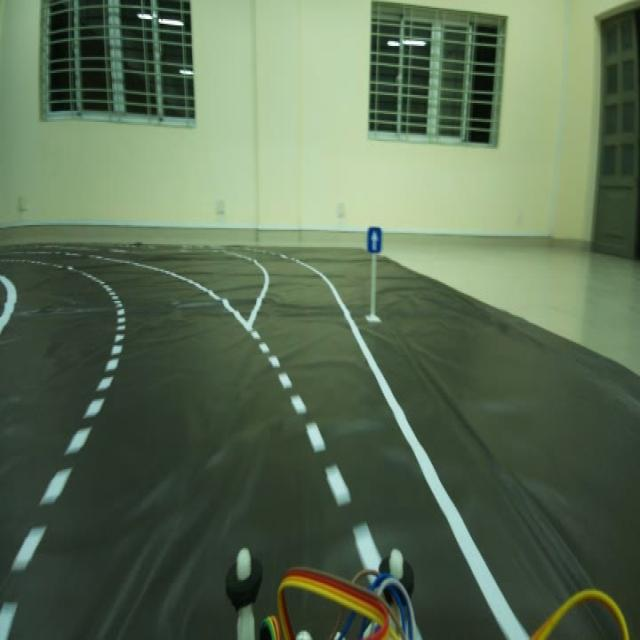onewayroad: (366, 222, 384, 256)
